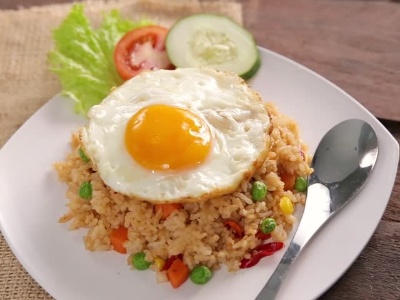nasigoreng: (61, 69, 300, 271)
